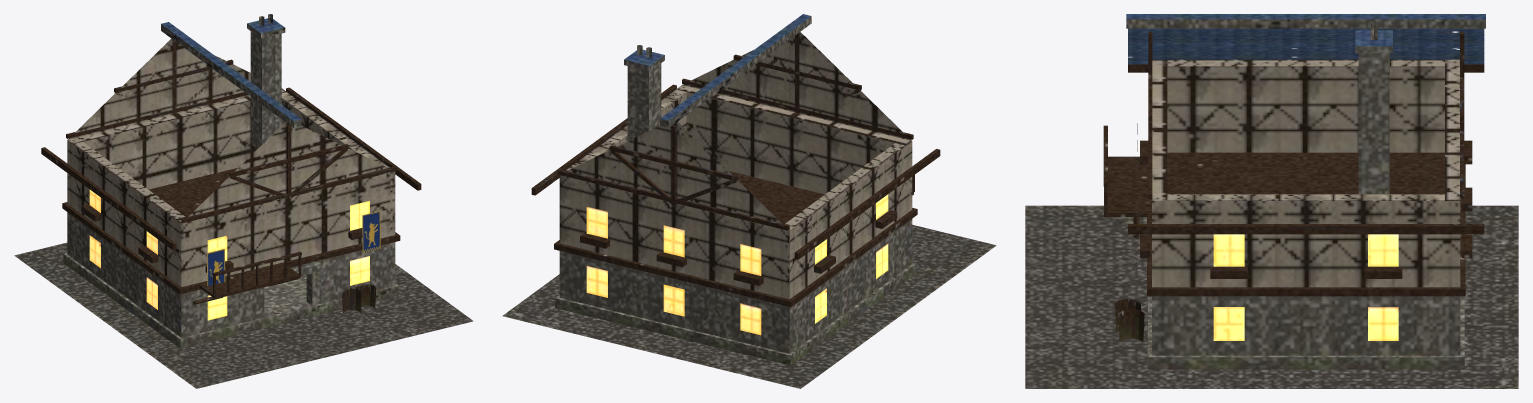
File: bld_house3_card_lod2.glb
3 renders of one model, left to right at view 1: azimuth 30°, elevation 25°; view 2: azimuth 150°, elevation 25°; view 3: azimuth 270°, elevation 25°, orthographic. The views are drawn at different scales.
Parts seen in each view (by area): view 1: house3_card; view 2: house3_card; view 3: house3_card.
Boxes of the visible parts, x1=… form: house3_card: x1=14, y1=14, x2=473, y2=388; house3_card: x1=502, y1=14, x2=996, y2=388; house3_card: x1=1025, y1=14, x2=1518, y2=388.
Bounding box in the file's own units: 21.5 × 17.06 × 24.48.
Materials: 1 (1 with a texture image).
